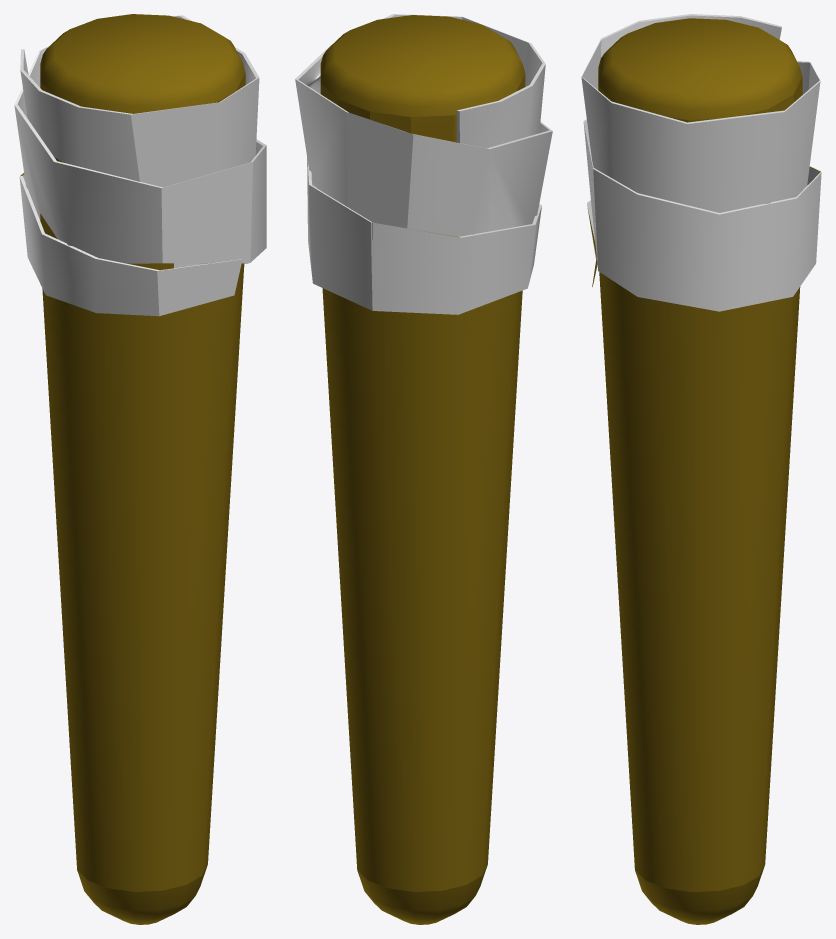
The model's file is Torch.fbx.
3 renders of one model, left to right at view 1: azimuth 30°, elevation 25°; view 2: azimuth 150°, elevation 25°; view 3: azimuth 270°, elevation 25°, orthographic.
Visible parts, largest first — view 1: Цилиндр; view 2: Цилиндр; view 3: Цилиндр.
Boxes of the visible parts, bbox=[...] form: Цилиндр: bbox=[14, 14, 266, 924]; Цилиндр: bbox=[295, 14, 552, 924]; Цилиндр: bbox=[581, 14, 821, 924].
Bounding box in the file's own units: 33.75 × 130 × 32.88.
